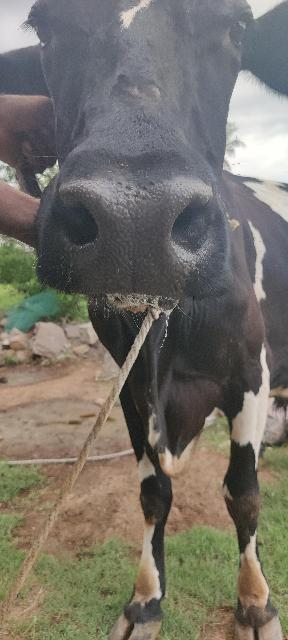Muzzle: (50, 177, 210, 291)
